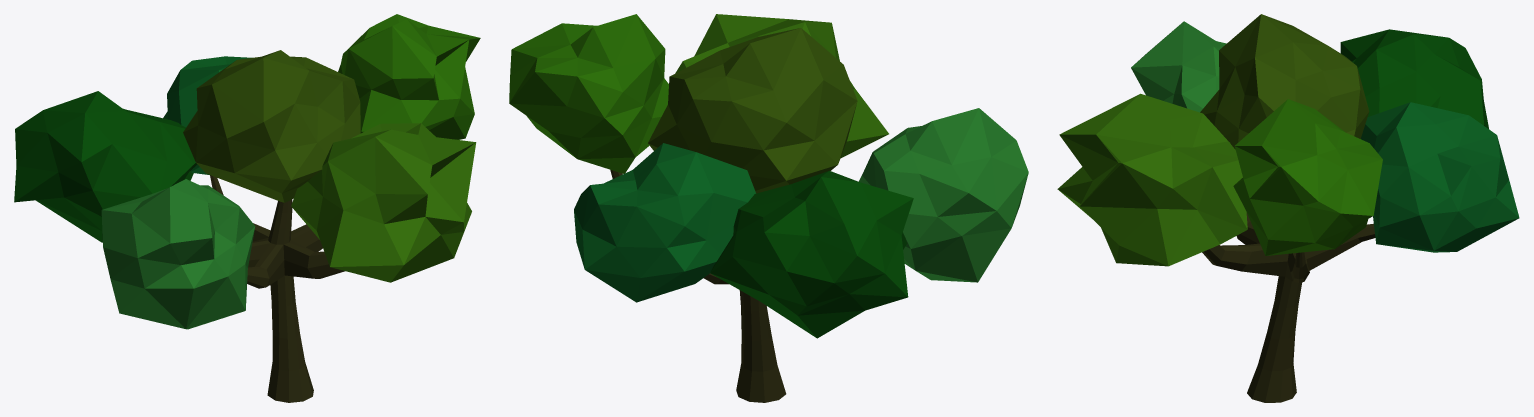
Rendered from Sketchfab_2017_09_01_21_37_34.fbx.
3 views of the same model, side by side, from view 1: azimuth 30°, elevation 25°; view 2: azimuth 150°, elevation 25°; view 3: azimuth 270°, elevation 25° (orthographic). The views are drawn at different scales.
Parts seen in each view (by area): view 1: Icosphere.004, Icosphere, Icosphere.002, Icosphere.001, Icosphere.003, Cylinder, Icosphere.005; view 2: Icosphere.001, Icosphere, Icosphere.005, Icosphere.002, Icosphere.003, Icosphere.004, Cylinder; view 3: Icosphere.004, Icosphere.005, Icosphere.003, Icosphere, Icosphere.001, Cylinder, Icosphere.002.
Part boxes in pixels (bbox=[...]): Icosphere.004: bbox=[291, 123, 476, 282]; Icosphere: bbox=[183, 50, 360, 202]; Icosphere.002: bbox=[101, 179, 255, 329]; Icosphere.001: bbox=[14, 91, 197, 242]; Icosphere.003: bbox=[338, 14, 480, 139]; Cylinder: bbox=[210, 175, 344, 402]; Icosphere.005: bbox=[163, 56, 252, 174]; Icosphere.001: bbox=[710, 170, 913, 338]; Icosphere: bbox=[648, 28, 857, 193]; Icosphere.005: bbox=[574, 143, 755, 302]; Icosphere.002: bbox=[859, 108, 1028, 282]; Icosphere.003: bbox=[509, 14, 668, 173]; Icosphere.004: bbox=[675, 14, 888, 158]; Cylinder: bbox=[610, 170, 786, 402]; Icosphere.004: bbox=[1057, 93, 1247, 266]; Icosphere.005: bbox=[1361, 102, 1519, 252]; Icosphere.003: bbox=[1233, 99, 1382, 255]; Icosphere: bbox=[1200, 14, 1369, 149]; Icosphere.001: bbox=[1340, 29, 1488, 128]; Cylinder: bbox=[1202, 213, 1375, 402]; Icosphere.002: bbox=[1131, 21, 1226, 112].
Size of the model in its own units: 4059 by 3200 by 3699.
